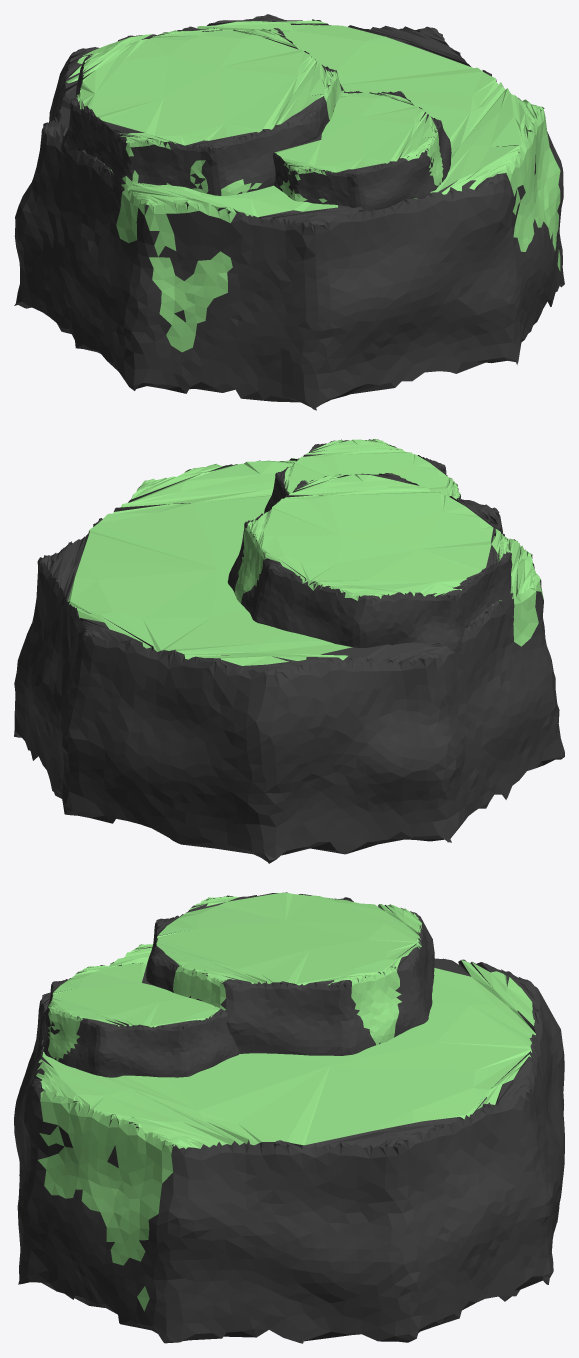
The model's file is island.glb.
The picture shows the model from 3 angles, top to bottom: view 1: azimuth 30°, elevation 25°; view 2: azimuth 150°, elevation 25°; view 3: azimuth 270°, elevation 25°; orthographic projection. The views are drawn at different scales.
Visible parts, largest first — view 1: Cylinder.002; view 2: Cylinder.002; view 3: Cylinder.002.
Boxes of the visible parts, x1,y1,x2,y2 form: Cylinder.002: [14, 14, 564, 410]; Cylinder.002: [14, 439, 564, 863]; Cylinder.002: [14, 892, 564, 1343].
Size of the model in its own units: 22.5 by 12.08 by 22.98.
